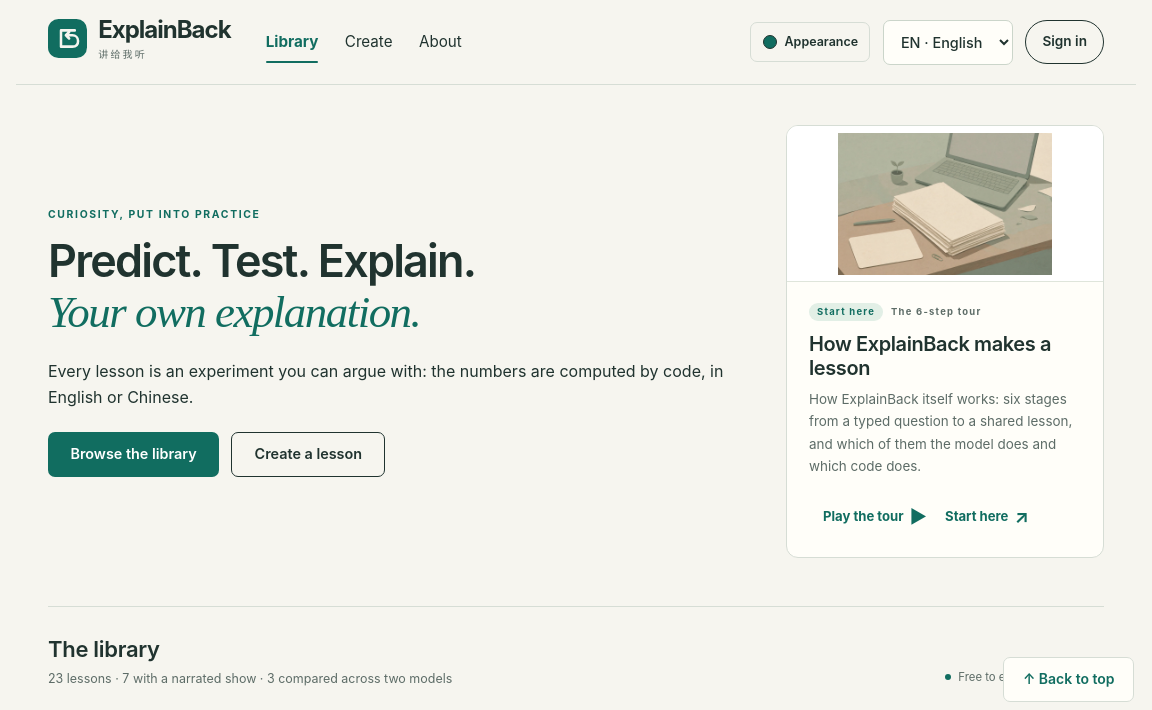
Test case: back to top › appears after a long scroll, scrolls the page up and hands focus to the content
(page scrolled)
Click the button "↑ Back to top": (1069, 679) [1004, 657, 1134, 702]
(page scrolled)
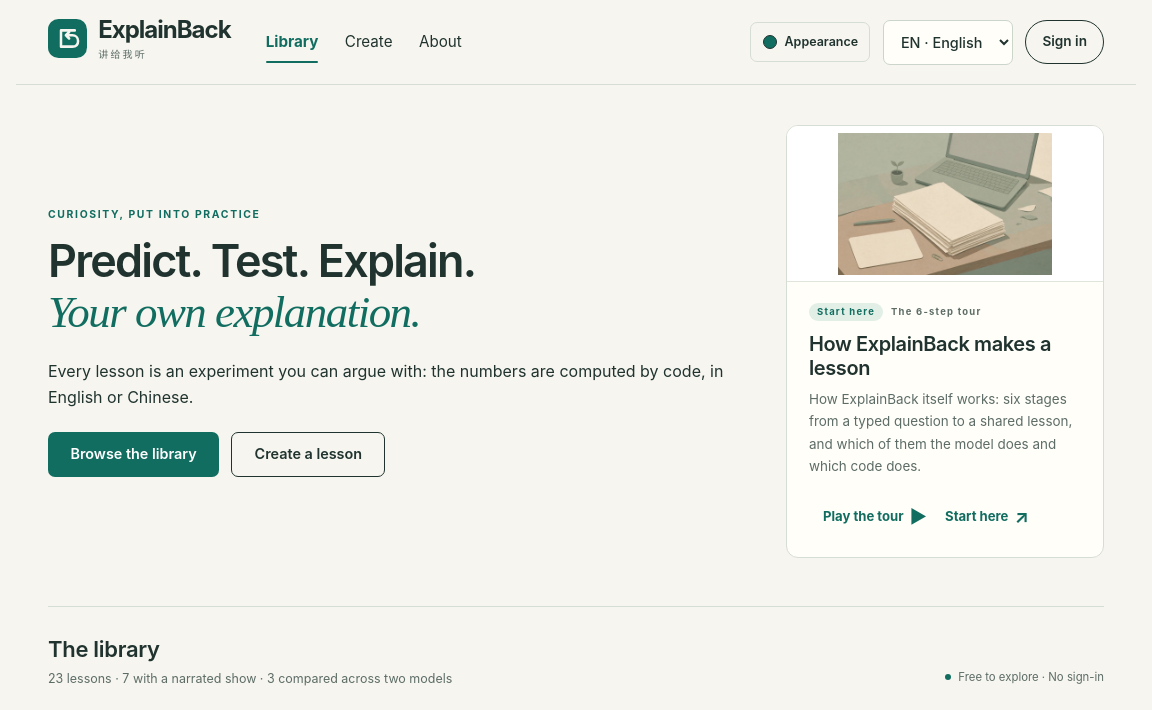
Now the button "Back to top" is gone
